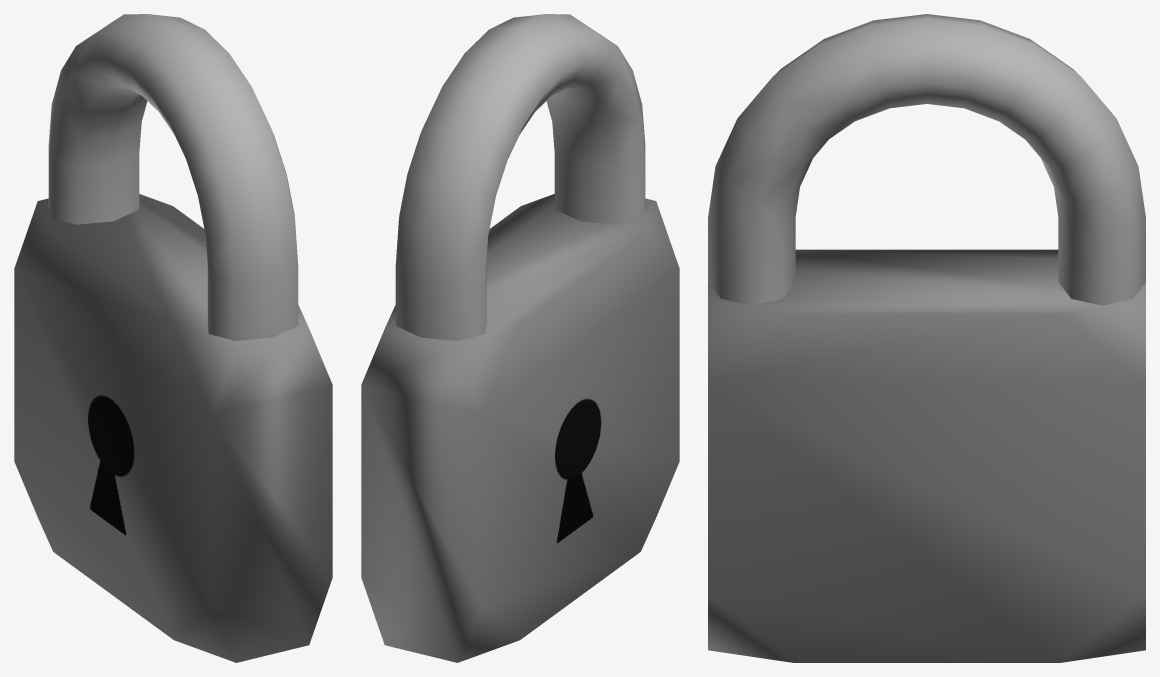
File: Lock.obj
The picture shows the model from 3 angles, left to right: view 1: azimuth 30°, elevation 25°; view 2: azimuth 150°, elevation 25°; view 3: azimuth 270°, elevation 25°; orthographic projection. The views are drawn at different scales.
Parts seen in each view (by area): view 1: Handle, Lock; view 2: Handle, Lock; view 3: Handle, Lock.
Boxes of the visible parts, x1,y1,x2,y2 form: Handle: (14, 194, 332, 662); Lock: (48, 14, 298, 340); Handle: (361, 194, 679, 662); Lock: (395, 14, 645, 340); Handle: (708, 249, 1145, 662); Lock: (708, 14, 1145, 305).
Bounding box in the file's own units: 0.1743 × 0.7703 × 0.5.
Materials: 2 (1 with a texture image).
